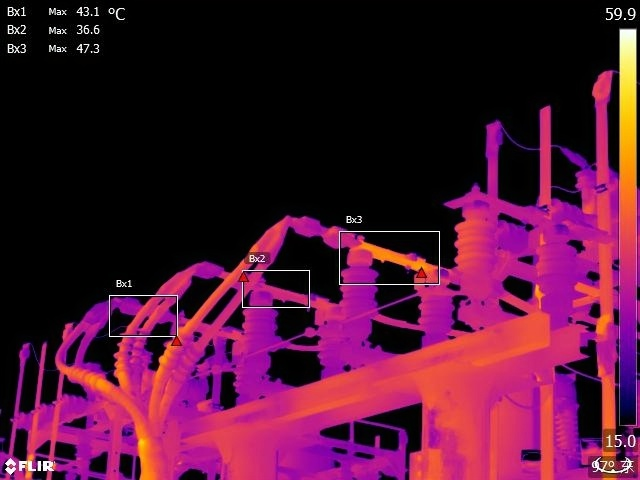post insulator: (336, 254, 383, 334), (452, 210, 498, 285), (530, 236, 583, 301), (417, 281, 457, 340), (237, 294, 276, 353), (311, 315, 353, 368), (229, 353, 260, 404), (552, 409, 579, 455)
switch: (338, 229, 448, 294), (249, 272, 335, 318)
tube: (108, 318, 140, 378), (155, 326, 190, 373), (174, 341, 212, 382), (128, 330, 154, 372), (66, 364, 103, 393)
